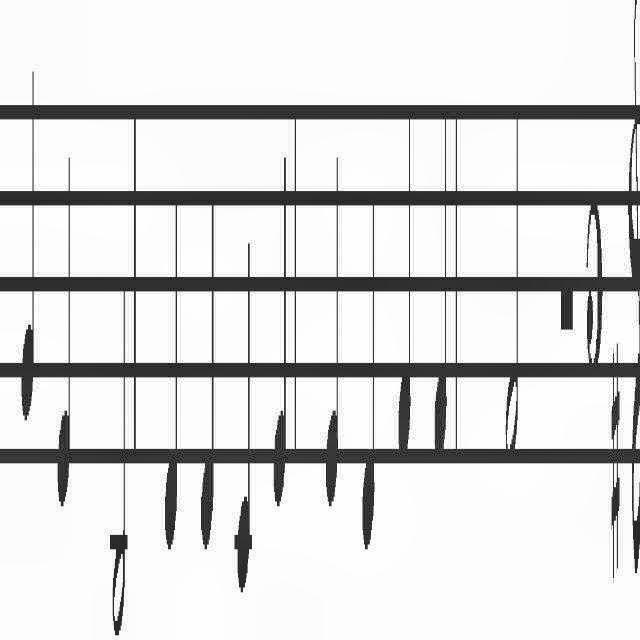Bass-clef: (623, 0, 640, 626), (639, 0, 640, 626)
Diez: (608, 338, 626, 602)
Half-note: (501, 24, 524, 496), (107, 227, 129, 640)
Quarter-note: (160, 122, 180, 598), (395, 88, 415, 496), (197, 128, 215, 580), (234, 229, 254, 626), (54, 130, 72, 538), (431, 79, 449, 474), (18, 62, 36, 454), (270, 127, 286, 543), (362, 171, 376, 589), (328, 143, 340, 552)
